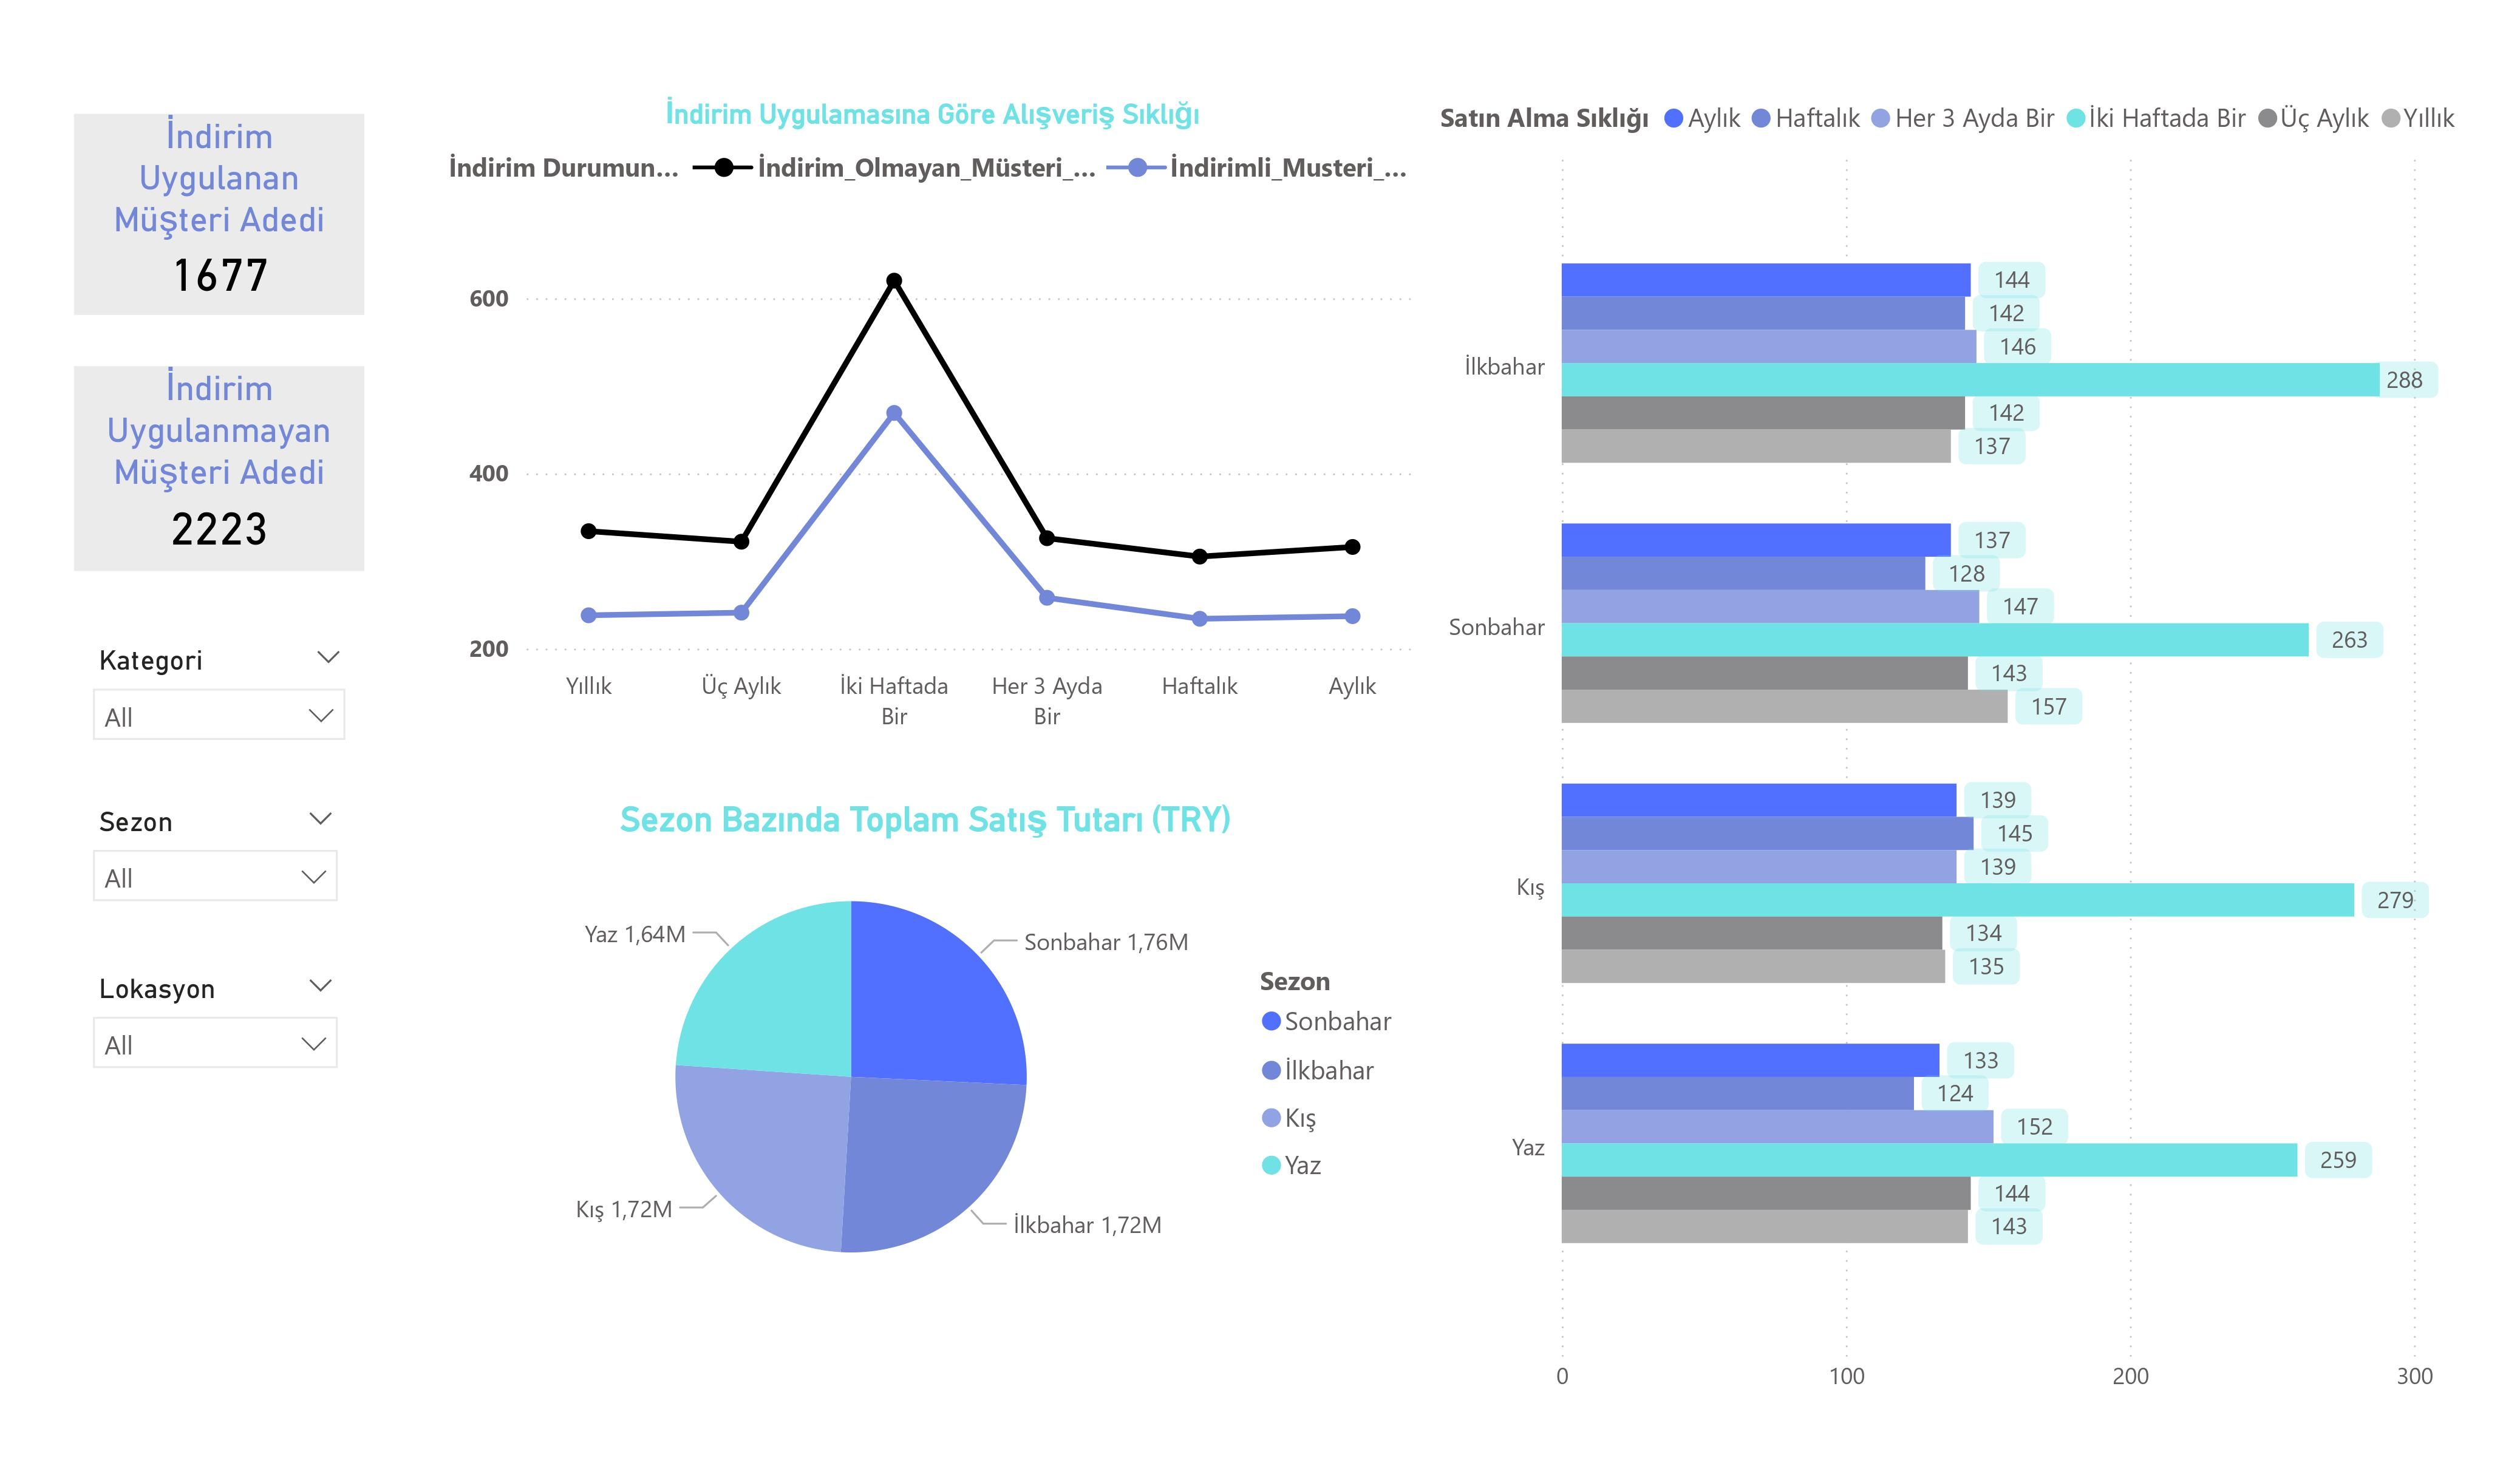

Layout of this report page (visuals, bound fields, positions):
{"tool":"powerbi","page":{"name":"Sezon Analizi","canvas":[1280,720],"ordinal":3},"visuals":[{"type":"clusteredBarChart","fields":{"Category":["Season.Sezon"],"Y":["CountNonNull(Satış.Müşteri ID)"],"Series":["Frequency of Purchases.Satın Alma Sıklığı"]},"box":[717.8,19.3,541.7,700.9],"z":0},{"type":"card","title":"İndirim Uygulanan Müşteri Adedi","fields":{"Values":["CountNonNull(Satış.Müşteri ID)"]},"box":[10.9,31.4,153.2,106.2],"z":1000},{"type":"card","title":"İndirim Uygulanmayan Müşteri Adedi","fields":{"Values":["CountNonNull(Satış.Müşteri ID)"]},"box":[12.1,168.9,153.2,107.4],"z":2000},{"type":"slicer","fields":{"Values":["Season.Sezon"]},"box":[14.5,411.4,149.6,71.2],"z":3000},{"type":"slicer","fields":{"Values":["Item Purchased.Kategori"]},"box":[14.5,324.5,153.2,71.2],"z":4000},{"type":"lineChart","title":"İndirim Uygulamasına Göre Alışveriş Sıklığı","fields":{"Category":["Frequency of Purchases.Satın Alma Sıklığı"],"Y":["Satış.İndirim_Olmayan_Müsteri_Adedi","Satış.İndirimli_Musteri_Adedi"]},"box":[187,354.7,527.2,341.4],"z":5000},{"type":"slicer","fields":{"Values":["Satış.Lokasyon"]},"box":[14.5,494.6,149.6,62.7],"z":6000},{"type":"pieChart","title":"Sezon Bazında Toplam Satış Tutarı (TRY)","fields":{"Category":["Season.Sezon"],"Y":["Satış.Purchase Amount (TRY)"]},"box":[194.2,31.4,520,275.1],"z":7000}]}

Visuals, with their boxes on the page's 1280x720 design canvas (x1, y1, x2, y2). These are canvas units, not pixel positions in the 2520x1457 screenshot, which may show the page scaled, cropped or inside an application window:
clusteredBarChart - Season.Sezon x CountNonNull(Satış.Müşteri ID): (718, 19, 1260, 720)
"İndirim Uygulanan Müşteri Adedi" card: (11, 31, 164, 138)
"İndirim Uygulanmayan Müşteri Adedi" card: (12, 169, 165, 276)
slicer - Season.Sezon: (14, 411, 164, 483)
slicer - Item Purchased.Kategori: (14, 324, 168, 396)
"İndirim Uygulamasına Göre Alışveriş Sıklığı" lineChart: (187, 355, 714, 696)
slicer - Satış.Lokasyon: (14, 495, 164, 557)
"Sezon Bazında Toplam Satış Tutarı (TRY)" pieChart: (194, 31, 714, 306)
